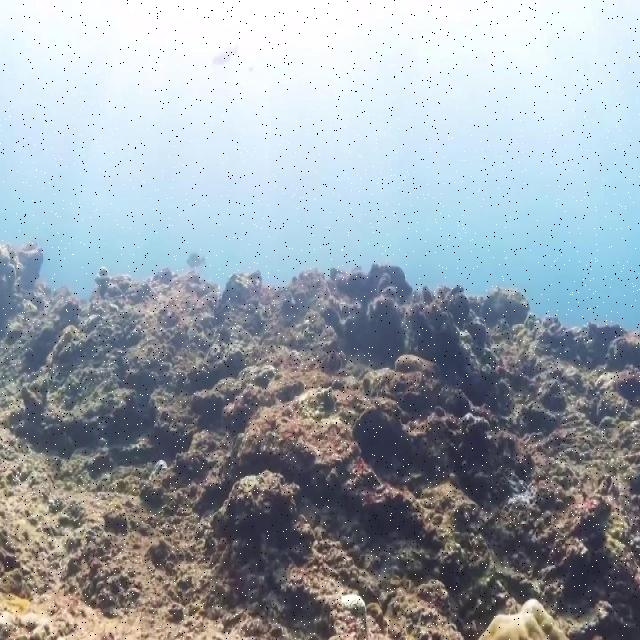fish: (212, 47, 237, 65), (186, 252, 207, 268)
reefs: (481, 599, 570, 639)
sea-floor: (0, 241, 638, 640)
